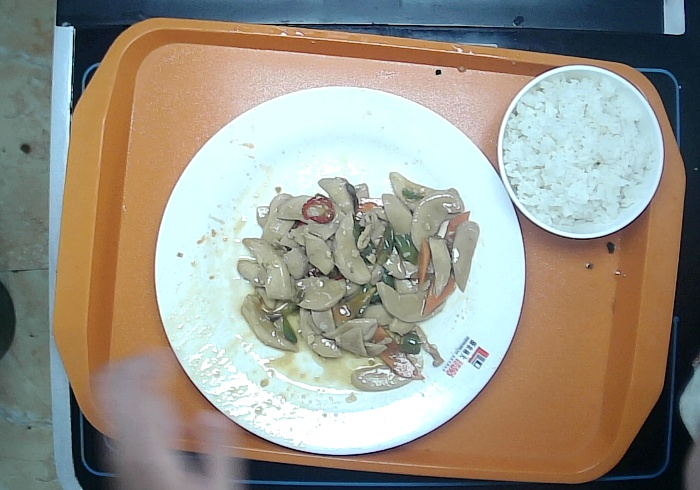ZNLD-Da_Yuan_Pan: (155, 85, 526, 460)
ZNLD-Fan_Wan: (496, 63, 665, 238)
